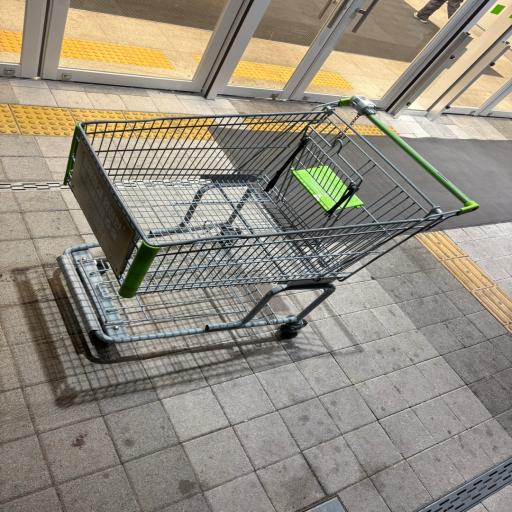empty_cart: (53, 92, 484, 349)
